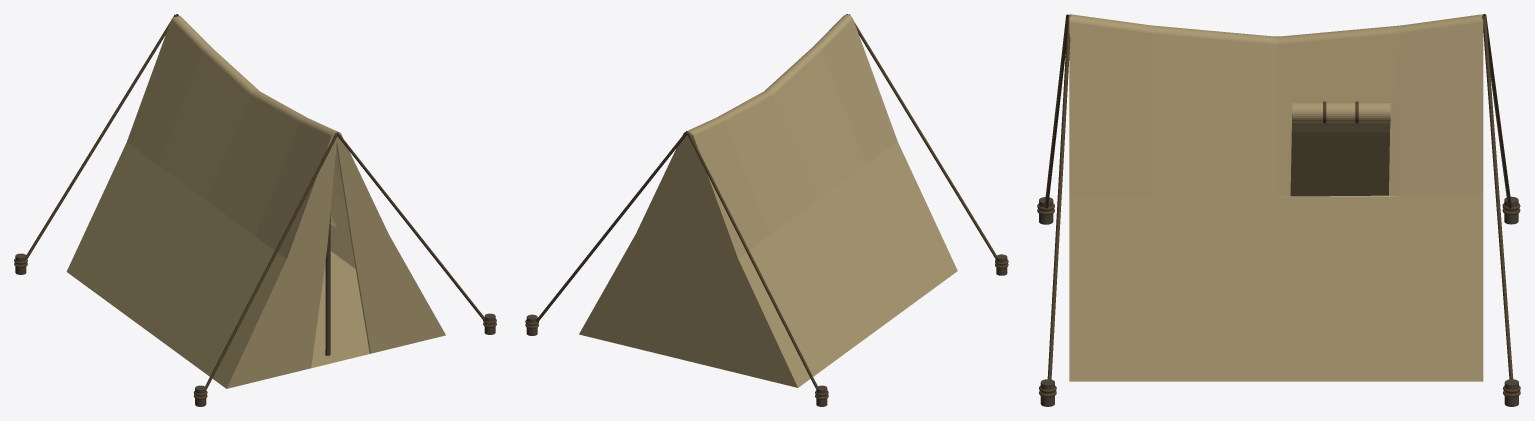
Rendered from Camp.fbx.
3 renders of one model, left to right at view 1: azimuth 30°, elevation 25°; view 2: azimuth 150°, elevation 25°; view 3: azimuth 270°, elevation 25°, orthographic. The views are drawn at different scales.
Parts seen in each view (by area): view 1: Cube, BezierCurve.001, BezierCurve.003, BezierCurve, Cylinder; view 2: Cube, BezierCurve.003, BezierCurve.001, BezierCurve.002; view 3: Cube, Circle, BezierCurve, BezierCurve.002, BezierCurve.001, BezierCurve.003.
Boxes of the visible parts, x1=… form: Cube: x1=66, y1=16, x2=445, y2=388; BezierCurve.001: x1=205, y1=133, x2=338, y2=389; BezierCurve.003: x1=26, y1=14, x2=176, y2=259; BezierCurve: x1=336, y1=131, x2=485, y2=320; Cylinder: x1=325, y1=213, x2=330, y2=355; Cube: x1=579, y1=14, x2=957, y2=387; BezierCurve.003: x1=686, y1=132, x2=817, y2=388; BezierCurve.001: x1=849, y1=14, x2=996, y2=259; BezierCurve.002: x1=536, y1=131, x2=687, y2=322; Cube: x1=1069, y1=14, x2=1483, y2=381; Circle: x1=1292, y1=101, x2=1390, y2=123; BezierCurve: x1=1047, y1=15, x2=1071, y2=379; BezierCurve.002: x1=1482, y1=15, x2=1513, y2=379; BezierCurve.001: x1=1044, y1=14, x2=1068, y2=208; BezierCurve.003: x1=1482, y1=14, x2=1511, y2=208.
Bounding box in the file's own units: 638 × 466 × 684.
